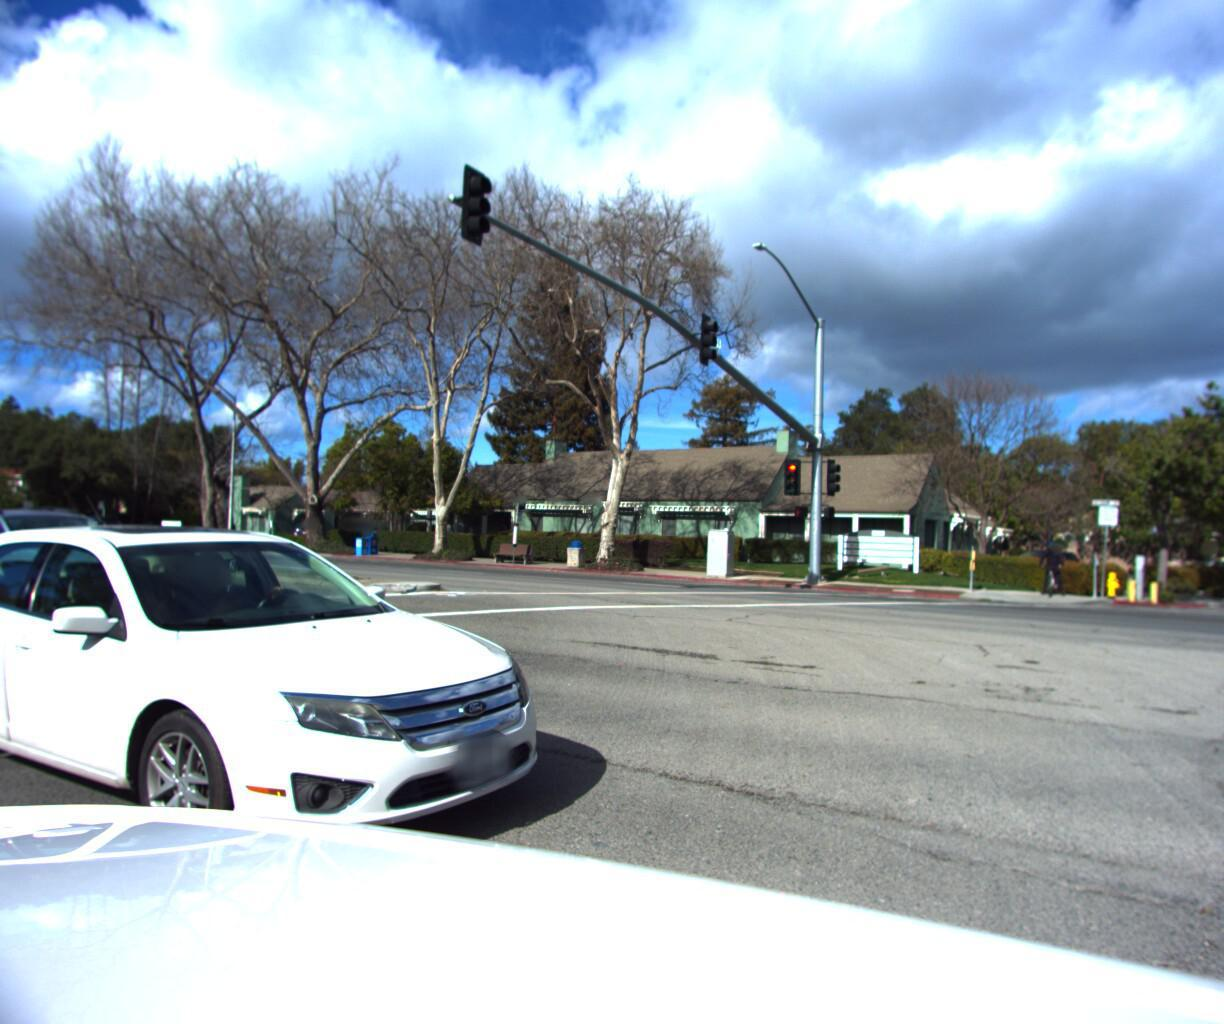bicycle: (1023, 536, 1072, 595)
car: (0, 514, 595, 937), (0, 507, 180, 622), (61, 519, 126, 549), (288, 526, 318, 547)
